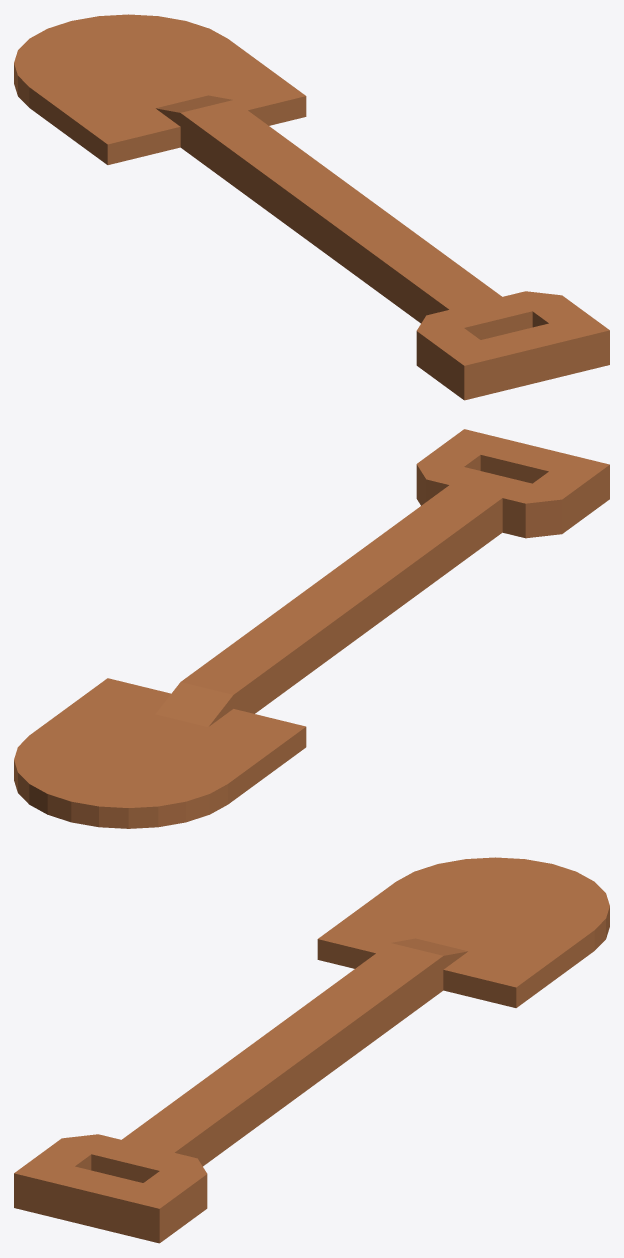
The model's file is shovel.glb.
3 views of the same model, one above another, from view 1: azimuth 30°, elevation 25°; view 2: azimuth 150°, elevation 25°; view 3: azimuth 330°, elevation 25° (orthographic).
Parts seen in each view (by area): view 1: shovel; view 2: shovel; view 3: shovel.
Part boxes in pixels (bbox=[...]): shovel: bbox=[14, 14, 609, 400]; shovel: bbox=[14, 429, 609, 828]; shovel: bbox=[14, 857, 609, 1243].
Size of the model in its own units: 2.21 by 0.368 by 8.97.
